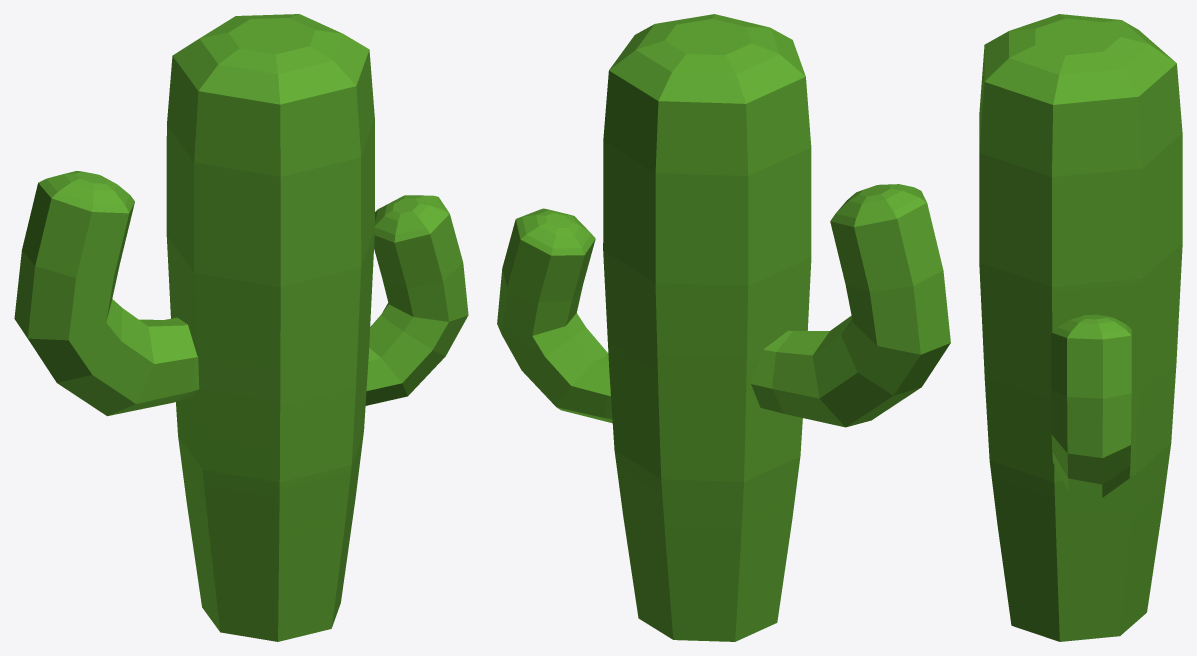
The model's file is Cactus6.fbx.
3 views of the same model, side by side, from view 1: azimuth 30°, elevation 25°; view 2: azimuth 150°, elevation 25°; view 3: azimuth 270°, elevation 25° (orthographic).
Parts seen in each view (by area): view 1: Cactus6; view 2: Cactus6; view 3: Cactus6.
Part boxes in pixels (<box>): Cactus6: <box>14,14,468,641</box>; Cactus6: <box>497,14,950,641</box>; Cactus6: <box>979,14,1182,641</box>.
Bounding box in the file's own units: 556 × 693 × 222.
